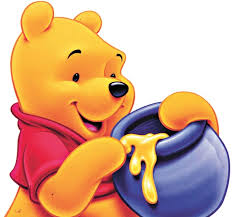Winnie: (3, 1, 139, 206)
